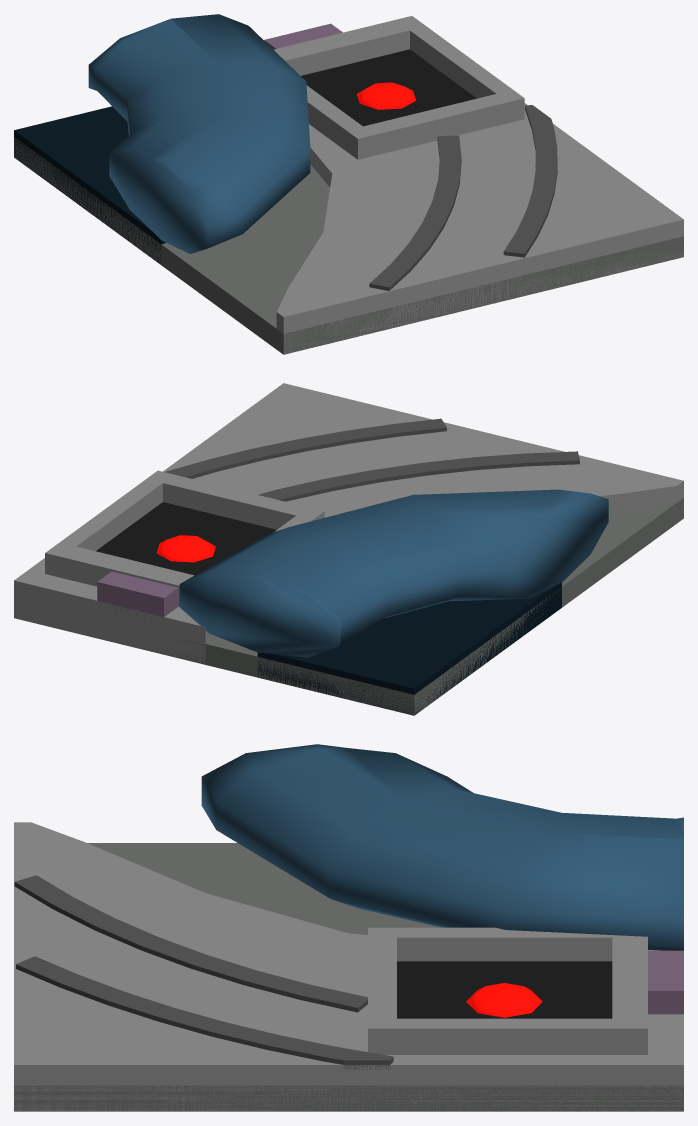
Rendered from newshb-121.glb.
3 views of the same model, one above another, from view 1: azimuth 30°, elevation 25°; view 2: azimuth 150°, elevation 25°; view 3: azimuth 270°, elevation 25° (orthographic). The views are drawn at different scales.
Visible parts, largest first — view 1: newshb-121; view 2: newshb-121; view 3: newshb-121.
Boxes of the visible parts, x1,y1,x2,y2 form: newshb-121: (14,14,683,354); newshb-121: (14,383,683,715); newshb-121: (14,744,683,1111).
Size of the model in its own units: 2 by 0.48 by 2.33.
